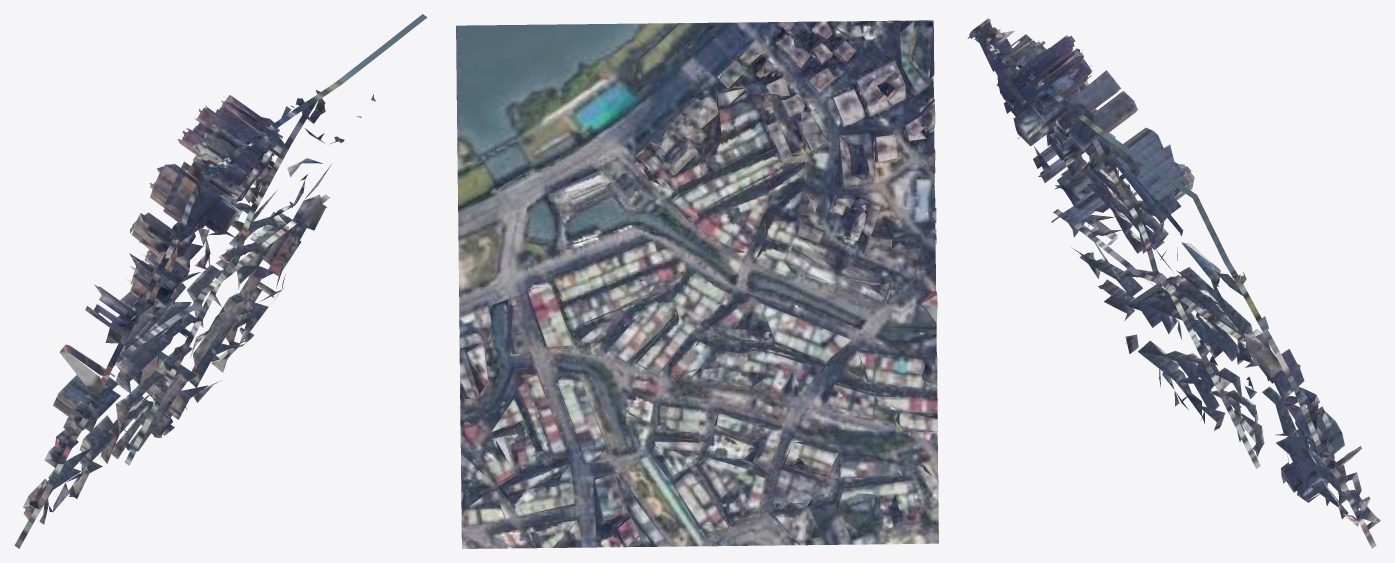
The picture shows the model from 3 angles, left to right: view 1: azimuth 30°, elevation 25°; view 2: azimuth 150°, elevation 25°; view 3: azimuth 270°, elevation 25°; orthographic projection. The views are drawn at different scales.
Bounding box in the file's own units: 615 × 587 × 519.
1 material, 1 textured.
